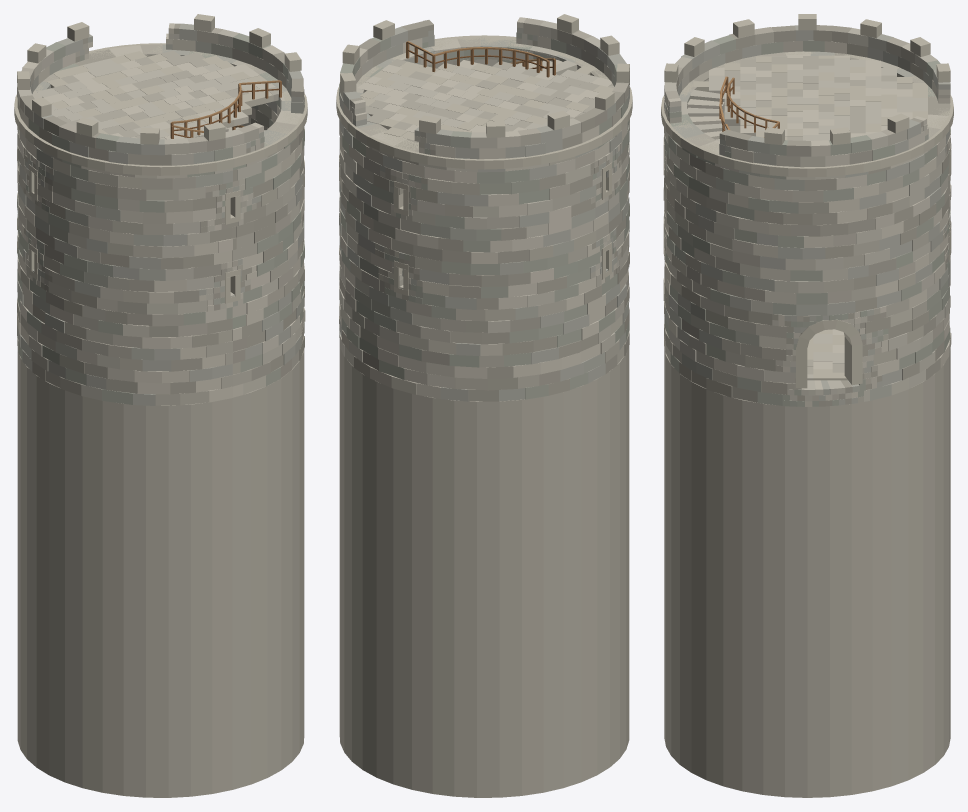
Rendered from Tower_V4_4.glb.
The picture shows the model from 3 angles, left to right: view 1: azimuth 30°, elevation 25°; view 2: azimuth 150°, elevation 25°; view 3: azimuth 270°, elevation 25°; orthographic projection.
Parts seen in each view (by area): view 1: Tower_V4_4; view 2: Tower_V4_4; view 3: Tower_V4_4.
Boxes of the visible parts, box(x1,y1,x2,y2) form: Tower_V4_4: box(14, 14, 307, 797); Tower_V4_4: box(336, 14, 632, 797); Tower_V4_4: box(661, 14, 953, 797).
Size of the model in its own units: 16.84 by 42.07 by 16.84.
